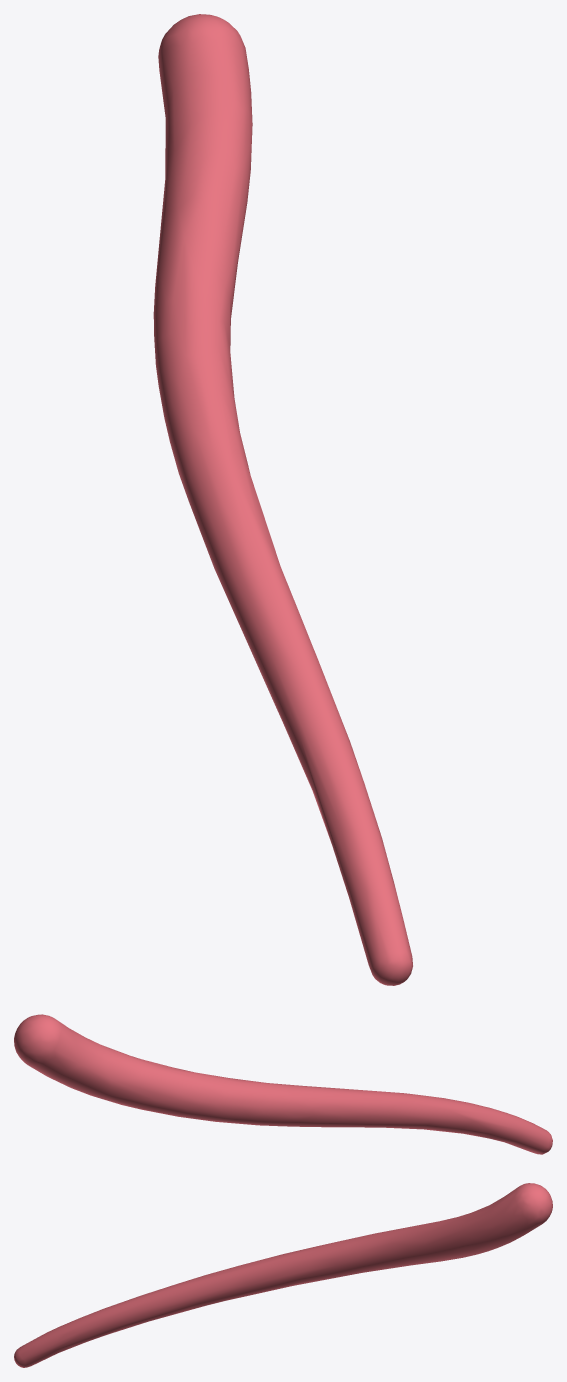
Rendered from fma43916_fj2055.glb.
The picture shows the model from 3 angles, top to bottom: view 1: azimuth 30°, elevation 25°; view 2: azimuth 150°, elevation 25°; view 3: azimuth 270°, elevation 25°; orthographic projection. The views are drawn at different scales.
Parts seen in each view (by area): view 1: FMA43916_FJ2055; view 2: FMA43916_FJ2055; view 3: FMA43916_FJ2055.
Boxes of the visible parts, left/top/right/bottom form: FMA43916_FJ2055: left=153, top=14, right=412, bottom=985; FMA43916_FJ2055: left=14, top=1014, right=552, bottom=1154; FMA43916_FJ2055: left=14, top=1183, right=552, bottom=1367.
Bounding box in the file's own units: 0.0241 × 0.0319 × 0.0602.
